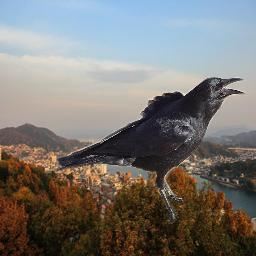Crow: (56, 76, 246, 224)
